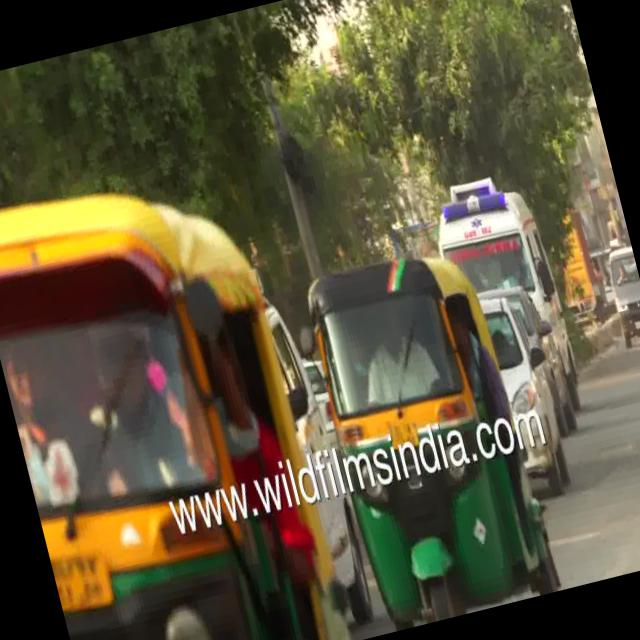ambulance: (422, 150, 575, 320)
